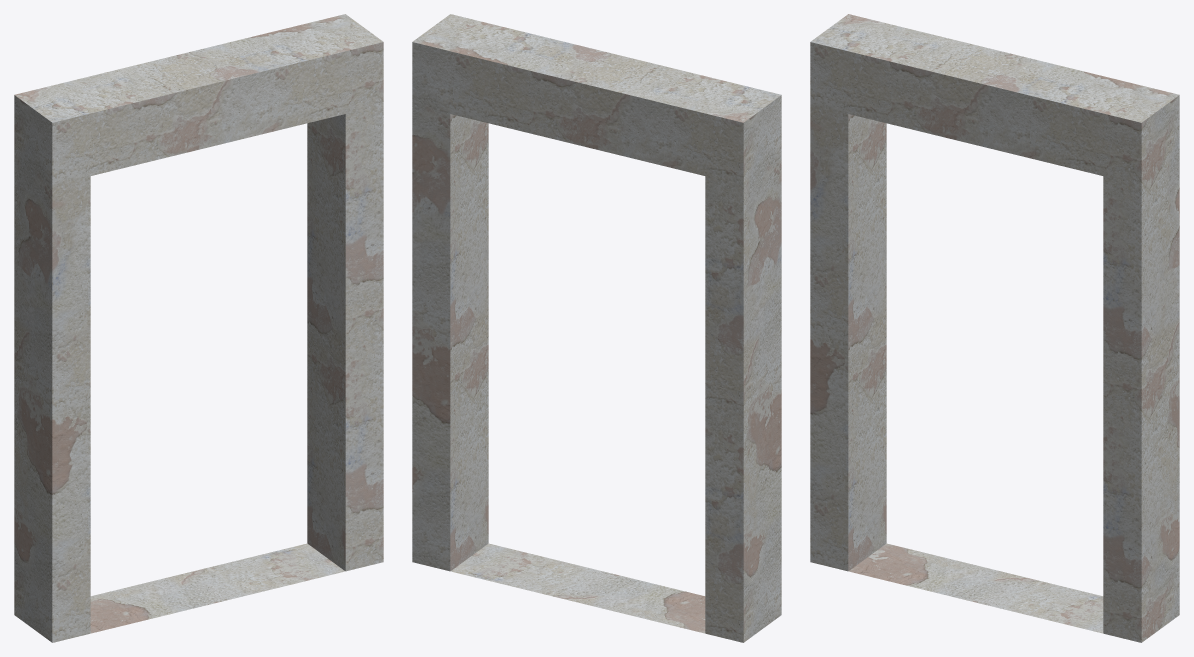
The model's file is terminal_door_wall_01.glb.
3 renders of one model, left to right at view 1: azimuth 30°, elevation 25°; view 2: azimuth 150°, elevation 25°; view 3: azimuth 330°, elevation 25°, orthographic.
Visible parts, largest first — view 1: Cube; view 2: Cube; view 3: Cube.
Boxes of the visible parts, x1,y1,x2,y2 form: Cube: [14, 14, 383, 642]; Cube: [412, 14, 781, 642]; Cube: [810, 14, 1179, 642].
Bounding box in the file's own units: 4 × 6 × 0.8.
Materials: 1 (1 with a texture image).
